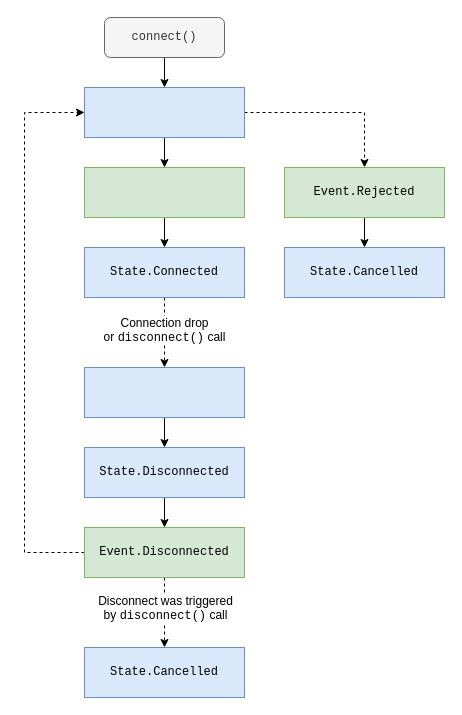
Image size: 462x715. Some labels were removed from this diagram. The shapes that lost their labels are listed below. From the top down, each one's centre as x and y in pixels, then its label:
At (164,112): "State.Connecting".
At (164,192): "Event.Connected".
At (164,392): "State.Disconnecting".
